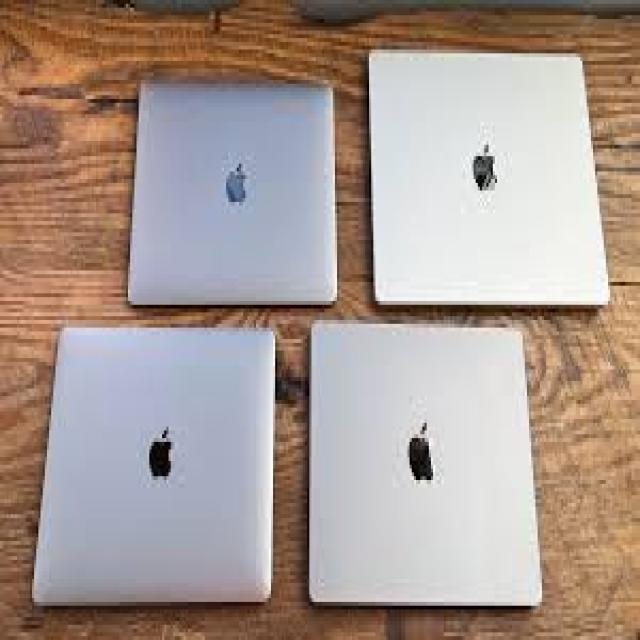laptop: (30, 324, 275, 606), (307, 316, 542, 606), (367, 46, 610, 304), (126, 72, 337, 305)
